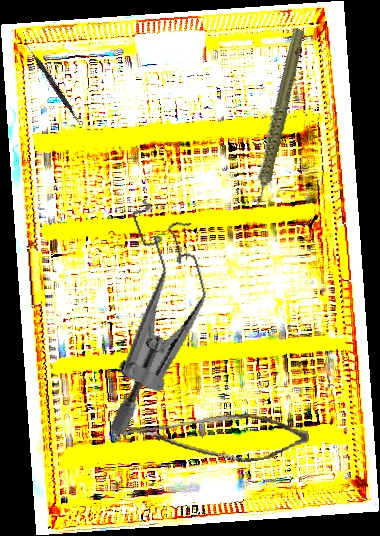Handpiece: (211, 26, 340, 213)
Micro Scissor: (117, 395, 312, 482)
Spatula Surgical: (20, 38, 84, 126)
Speculum: (55, 188, 241, 438)
